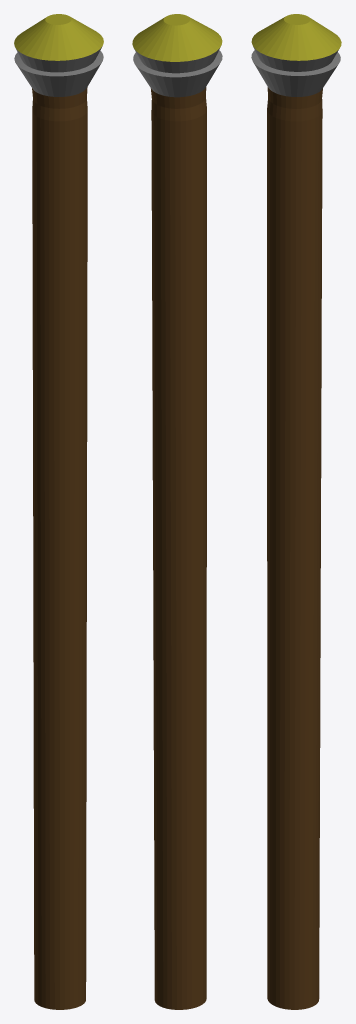
Rendered from poste.glb.
The picture shows the model from 3 angles, left to right: view 1: azimuth 90°, elevation 25°; view 2: azimuth 150°, elevation 25°; view 3: azimuth 330°, elevation 25°; orthographic projection.
Parts seen in each view (by area): view 1: Cylinder.026; view 2: Cylinder.026; view 3: Cylinder.026.
Boxes of the visible parts, box(x1,y1,x2,y2) form: Cylinder.026: box(14, 14, 103, 1009); Cylinder.026: box(132, 14, 222, 1009); Cylinder.026: box(251, 14, 341, 1009).
Size of the model in its own units: 0.613 by 7.35 by 0.611.
